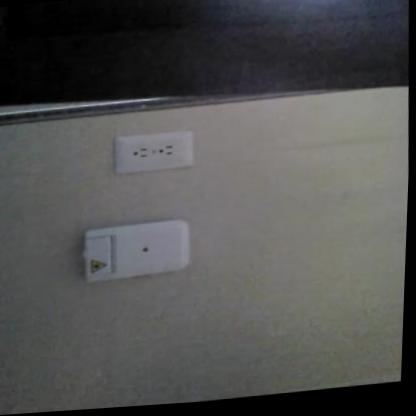OUTLET: (113, 129, 194, 176)
